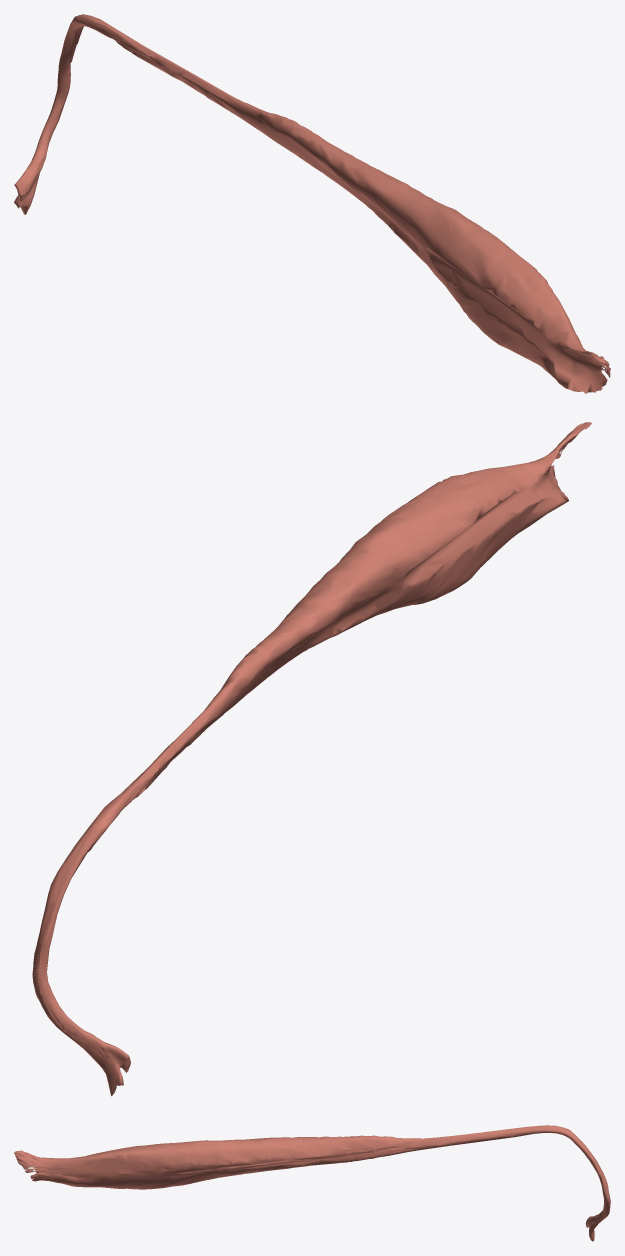
The picture shows the model from 3 angles, top to bottom: view 1: azimuth 30°, elevation 25°; view 2: azimuth 150°, elevation 25°; view 3: azimuth 270°, elevation 25°; orthographic projection. The views are drawn at different scales.
Visible parts, largest first — view 1: 左侧腓骨长肌; view 2: 左侧腓骨长肌; view 3: 左侧腓骨长肌.
Boxes of the visible parts, x1,y1,x2,y2 form: 左侧腓骨长肌: (14,14,610,393); 左侧腓骨长肌: (32,422,591,1096); 左侧腓骨长肌: (14,1125,610,1241).
Bounding box in the file's own units: 0.0866 × 0.1321 × 0.5586.
